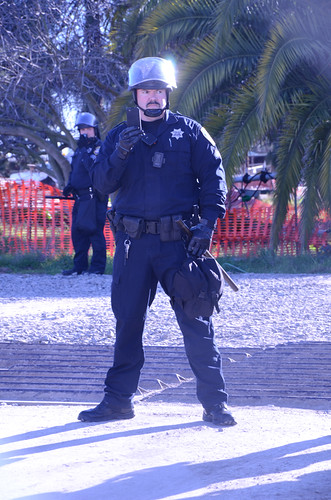policeman: (91, 59, 240, 429), (66, 116, 113, 283)
tree: (187, 1, 327, 248)
